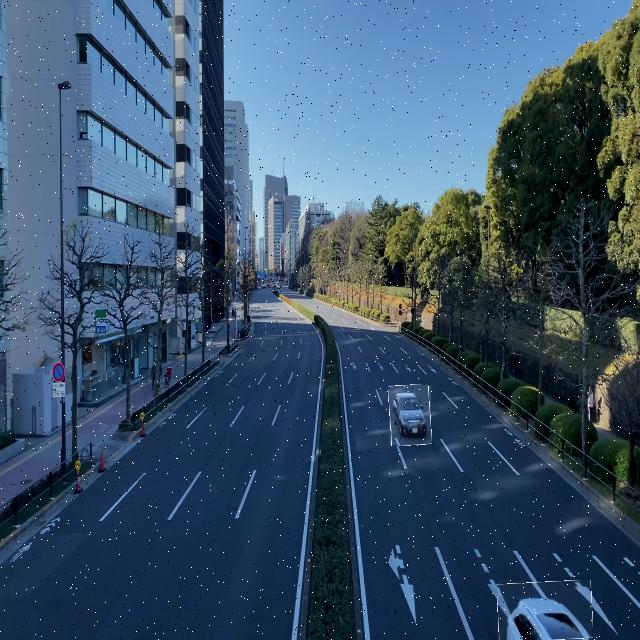Car: (497, 581, 592, 640), (389, 385, 431, 445)
